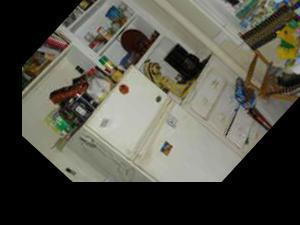Electrodomestico: (87, 67, 241, 218)
